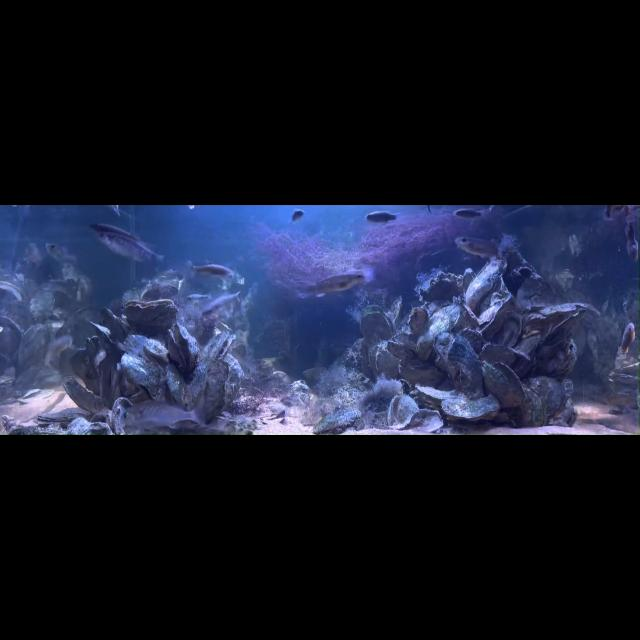Oyster-Closed: (432, 330, 486, 398), (416, 303, 459, 361), (465, 256, 507, 310), (20, 322, 52, 383), (66, 348, 102, 397), (440, 393, 500, 422), (524, 376, 564, 416), (546, 308, 586, 348), (62, 375, 104, 413), (523, 302, 587, 324), (420, 272, 464, 304), (208, 358, 230, 419), (518, 384, 548, 426), (184, 366, 208, 418), (100, 306, 132, 344), (34, 406, 94, 426), (224, 354, 244, 412), (492, 310, 524, 346), (166, 363, 188, 415), (0, 316, 24, 360), (452, 294, 481, 330), (398, 364, 444, 386), (457, 326, 487, 356), (410, 408, 444, 434), (481, 341, 515, 367), (140, 280, 178, 302), (111, 398, 133, 434), (89, 321, 117, 349), (407, 306, 429, 336), (386, 342, 416, 361)
Oyster-Open: (122, 332, 170, 413), (480, 358, 526, 408), (124, 298, 178, 330), (479, 292, 513, 340), (358, 302, 396, 343), (168, 322, 200, 370), (386, 395, 420, 429), (414, 383, 466, 405), (202, 330, 236, 362), (512, 330, 542, 358), (0, 280, 28, 308)
